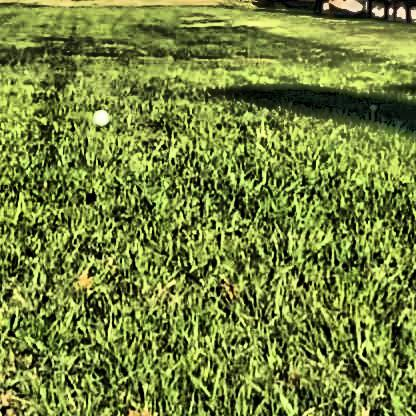golfball: (91, 106, 106, 121)
